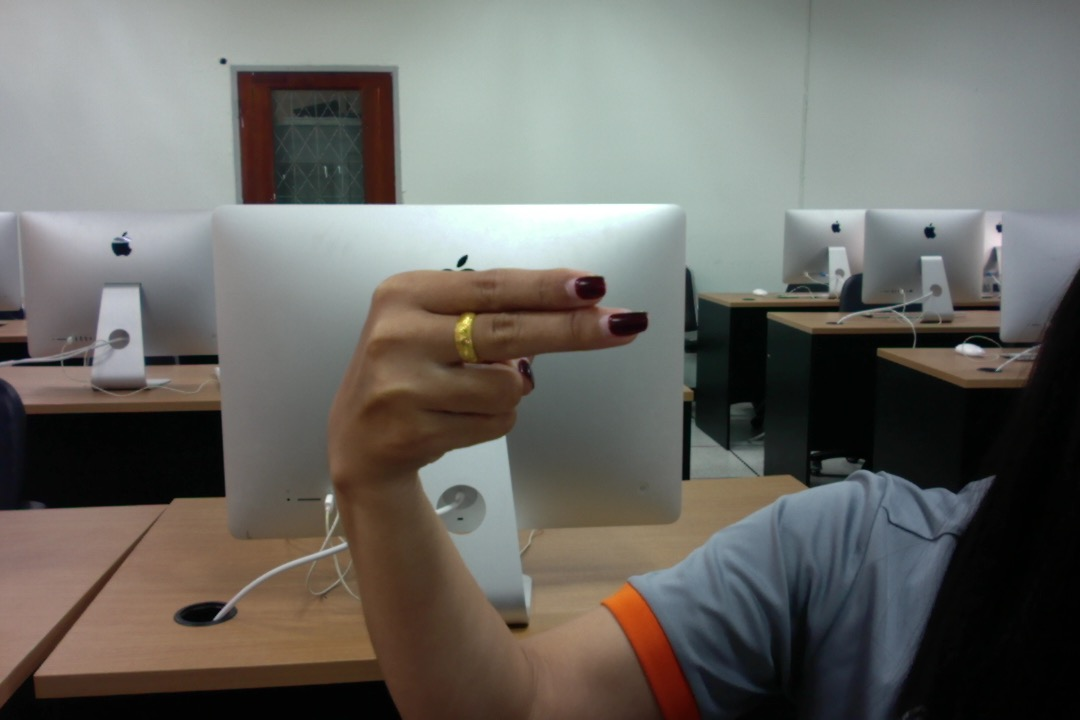hor: (305, 258, 658, 475)
